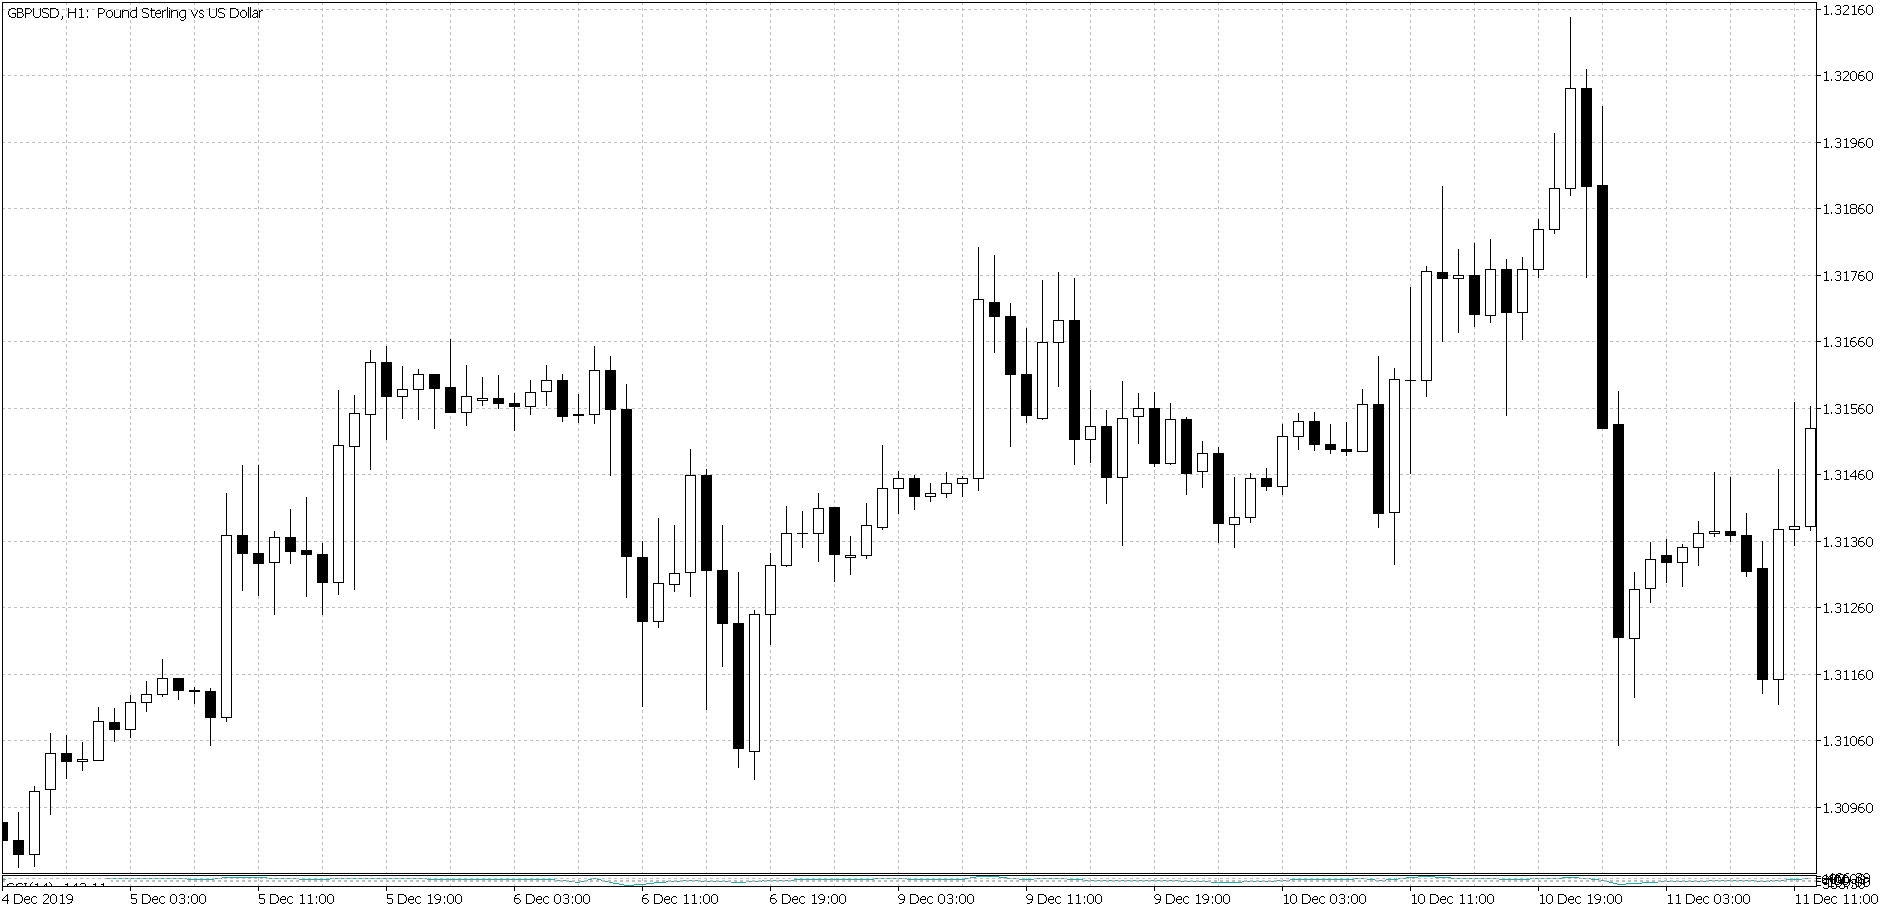3whitesoldiers: (748, 505, 797, 786)
bullishEngulfing: (202, 481, 236, 754), (1755, 477, 1788, 705), (12, 783, 42, 870)
morningStar: (827, 496, 876, 574)
